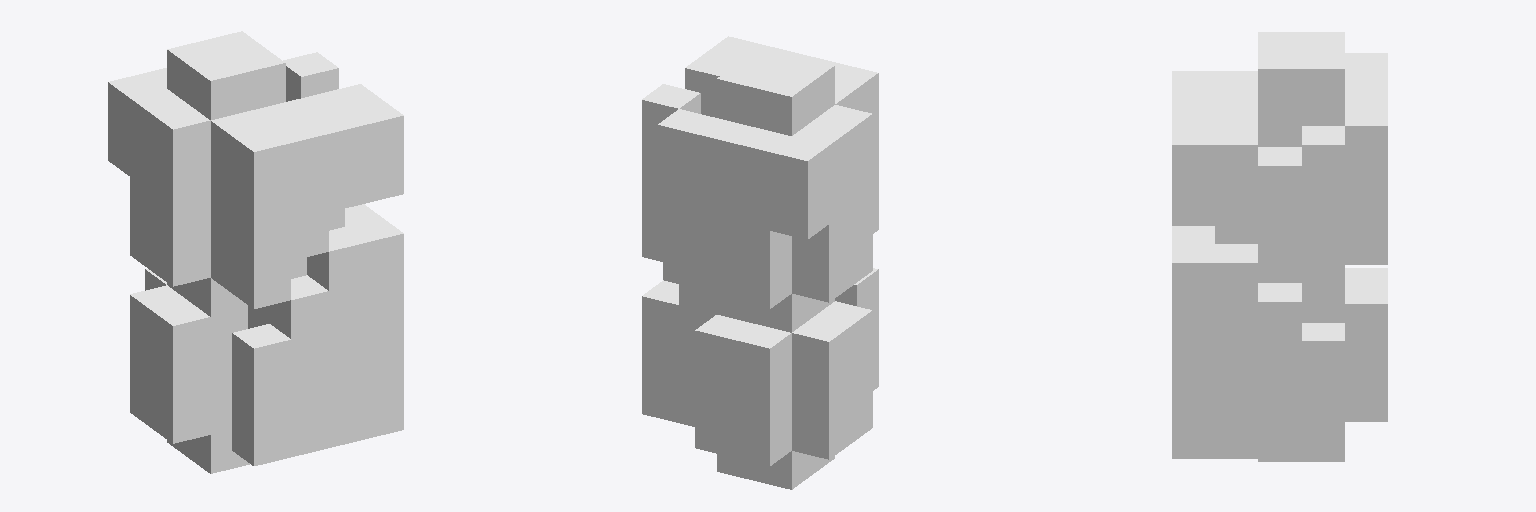
Rendered from Mecha01_right_biceps.obj.
3 views of the same model, side by side, from view 1: azimuth 30°, elevation 25°; view 2: azimuth 150°, elevation 25°; view 3: azimuth 270°, elevation 25° (orthographic).
Visible parts, largest first — view 1: object 1; view 2: object 1; view 3: object 1.
Part boxes in pixels (left/top/right/bottom): object 1: left=108, top=31, right=403, bottom=473; object 1: left=642, top=36, right=878, bottom=489; object 1: left=1172, top=32, right=1387, bottom=461.
Bounding box in the file's own units: 0.5 × 1 × 0.5.